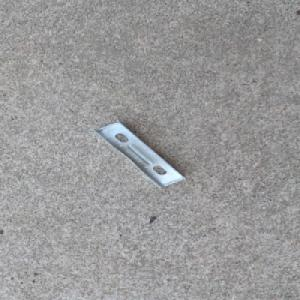ClampPart: (92, 119, 187, 188)
